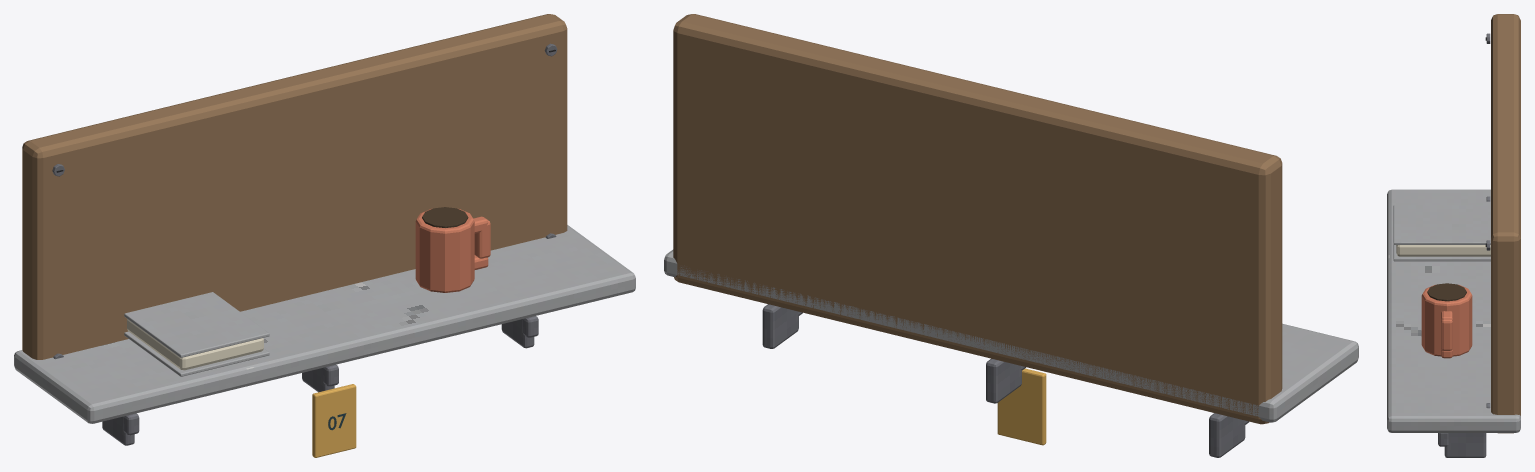
File: lbd_personal_shelf.glb
3 views of the same model, side by side, from view 1: azimuth 30°, elevation 25°; view 2: azimuth 150°, elevation 25°; view 3: azimuth 270°, elevation 25° (orthographic). The views are drawn at different scales.
Visible parts, largest first — view 1: personal_shelf__mount_003, personal_shelf__shelf_022, personal_shelf__book cover_049, personal_shelf__mug body_050, personal_shelf__key tag_063, personal_shelf__book pages_043, personal_shelf__book cover_046, personal_shelf__coffee_051; view 2: personal_shelf__mount_003, personal_shelf__shelf_022, personal_shelf__key tag_063, personal_shelf__hook stem_037, personal_shelf__hook stem_025, personal_shelf__hook stem_031; view 3: personal_shelf__shelf_022, personal_shelf__mount_003, personal_shelf__book cover_049, personal_shelf__mug body_050, personal_shelf__book pages_043, personal_shelf__hook stem_037, personal_shelf__book cover_046, personal_shelf__coffee_051, personal_shelf__handle side_054.
Part boxes in pixels (x1,y1,x2,y2): personal_shelf__mount_003: [22, 14, 567, 359]; personal_shelf__shelf_022: [14, 225, 635, 423]; personal_shelf__book cover_049: [124, 292, 269, 357]; personal_shelf__mug body_050: [415, 208, 474, 292]; personal_shelf__key tag_063: [312, 384, 356, 457]; personal_shelf__book pages_043: [127, 319, 263, 370]; personal_shelf__book cover_046: [124, 331, 269, 376]; personal_shelf__coffee_051: [422, 207, 468, 227]; personal_shelf__mount_003: [673, 14, 1282, 424]; personal_shelf__shelf_022: [664, 249, 1358, 422]; personal_shelf__key tag_063: [997, 368, 1046, 445]; personal_shelf__hook stem_037: [762, 304, 798, 348]; personal_shelf__hook stem_025: [1209, 413, 1245, 457]; personal_shelf__hook stem_031: [986, 358, 1021, 403]; personal_shelf__shelf_022: [1387, 189, 1520, 432]; personal_shelf__mount_003: [1491, 14, 1520, 433]; personal_shelf__book cover_049: [1393, 205, 1490, 244]; personal_shelf__mug body_050: [1421, 284, 1472, 356]; personal_shelf__book pages_043: [1396, 245, 1490, 256]; personal_shelf__hook stem_037: [1444, 433, 1486, 457]; personal_shelf__book cover_046: [1393, 245, 1490, 261]; personal_shelf__coffee_051: [1427, 283, 1466, 301]; personal_shelf__handle side_054: [1441, 319, 1452, 350].
Bounding box in the file's own units: 1.18 × 0.705 × 0.29.
Materials: 10 (4 with a texture image).
